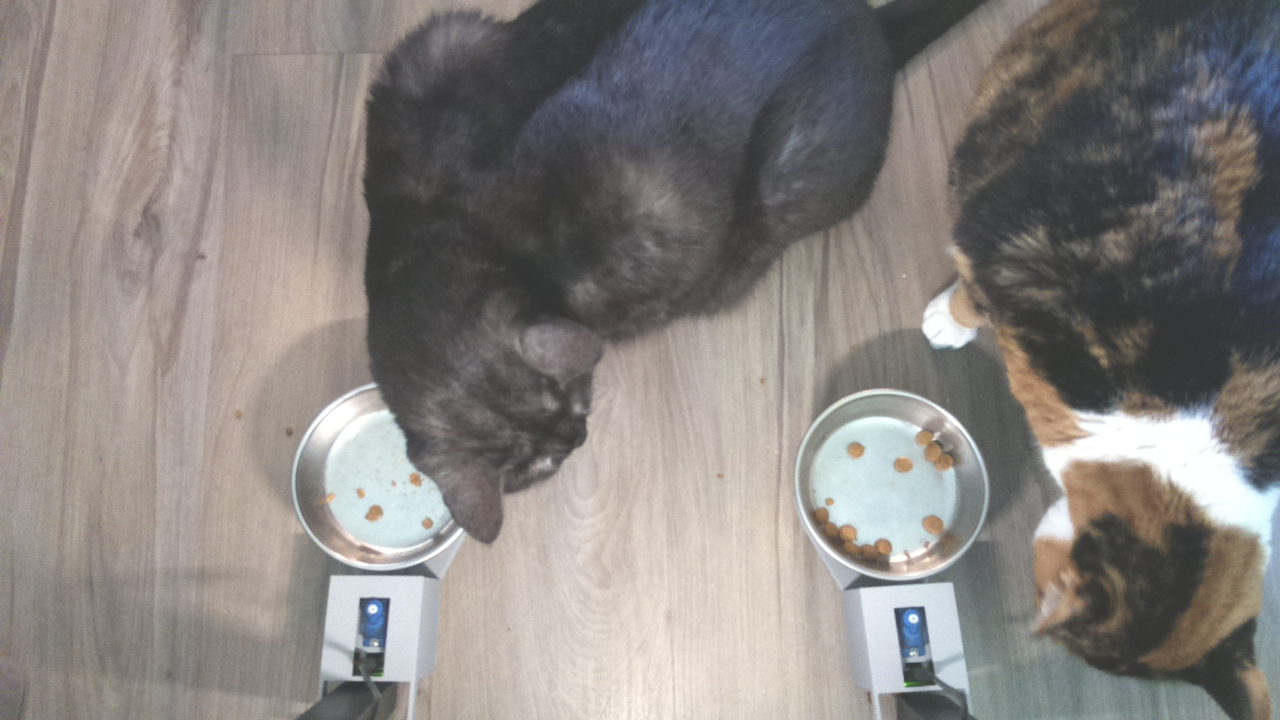bella: (1019, 396, 1280, 711)
open_bowl: (792, 378, 994, 587), (289, 379, 443, 571)
saki: (387, 234, 609, 551)
